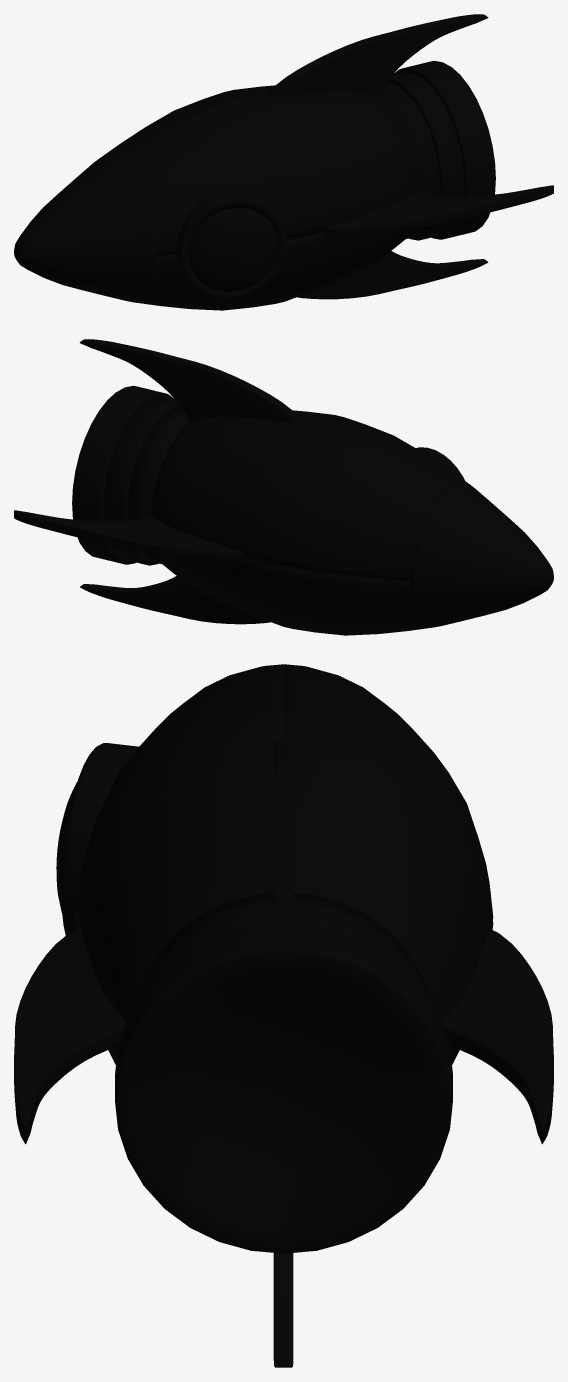
Rendered from Rocket.glb.
3 views of the same model, one above another, from view 1: azimuth 30°, elevation 25°; view 2: azimuth 150°, elevation 25°; view 3: azimuth 270°, elevation 25° (orthographic). The views are drawn at different scales.
Visible parts, largest first — view 1: node_id28, node_id43, node_id34, node_id31, node_id40, node_id37; view 2: node_id28, node_id43, node_id34, node_id31, node_id37; view 3: node_id31, node_id28, node_id43, node_id37.
Boxes of the visible parts, <box> form: node_id28: <box>99,85,416,310</box>; node_id43: <box>268,14,553,299</box>; node_id34: <box>14,157,156,302</box>; node_id31: <box>378,60,495,240</box>; node_id40: <box>189,208,278,291</box>; node_id37: <box>177,189,287,299</box>; node_id28: <box>151,410,468,635</box>; node_id43: <box>14,339,300,624</box>; node_id34: <box>411,482,553,627</box>; node_id31: <box>72,385,189,565</box>; node_id37: <box>416,447,464,480</box>; node_id31: <box>115,893,452,1253</box>; node_id28: <box>74,665,493,1064</box>; node_id43: <box>14,741,553,1367</box>; node_id37: <box>61,743,138,935</box>.
Size of the model in its own units: 0.512 by 0.2665 by 0.2665.
Materials: 6 (6 with a texture image).
